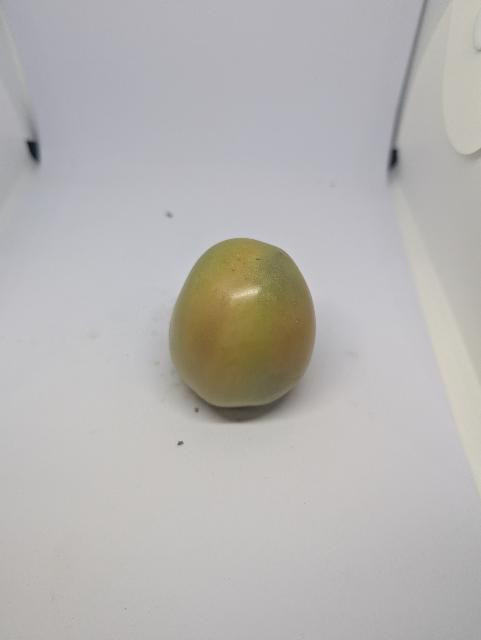breaker: (169, 238, 316, 407)
